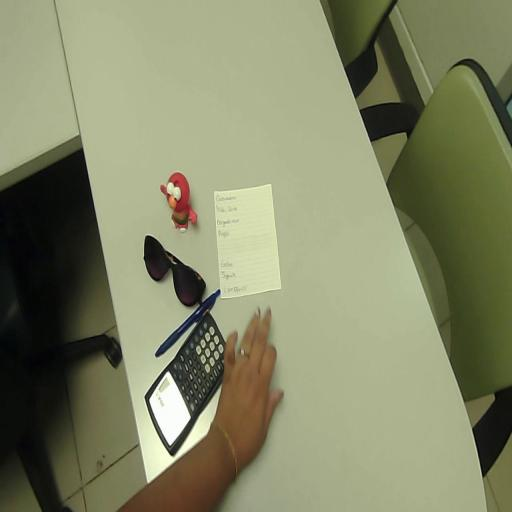pen: (155, 289, 220, 356)
